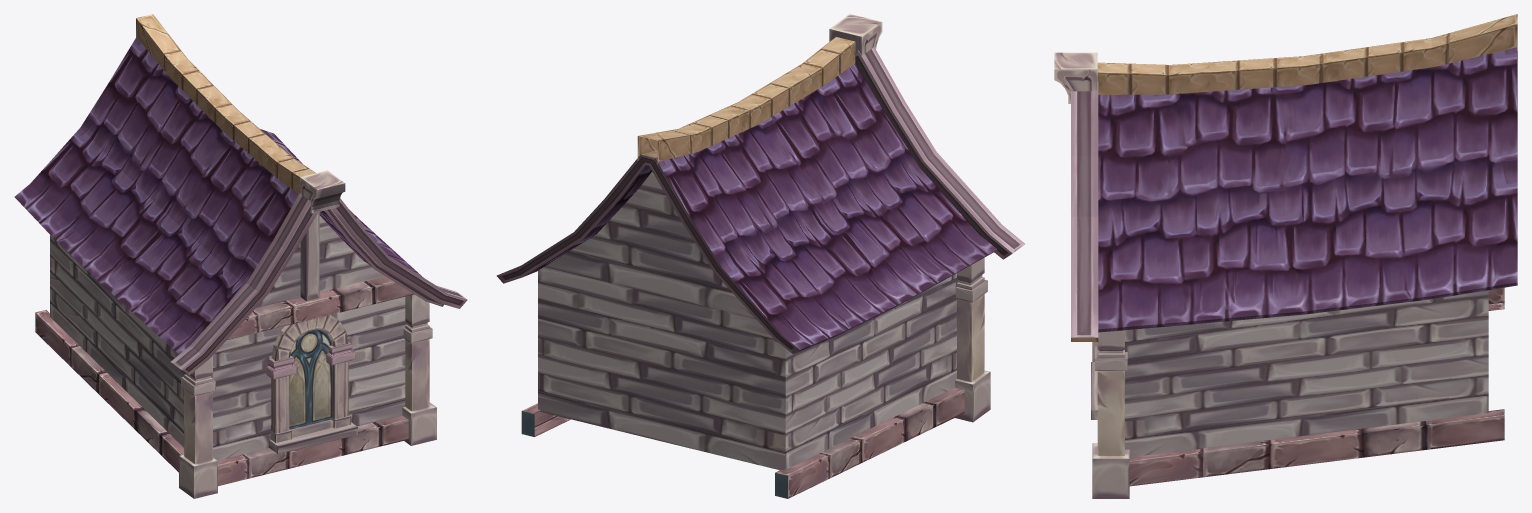
Rendered from fangzi03.fbx.
3 views of the same model, side by side, from view 1: azimuth 30°, elevation 25°; view 2: azimuth 150°, elevation 25°; view 3: azimuth 270°, elevation 25° (orthographic). The views are drawn at different scales.
Parts seen in each view (by area): view 1: 对象002; view 2: 对象002; view 3: 对象002.
Part boxes in pixels (x1=…): 对象002: x1=14, y1=14, x2=467, y2=498; 对象002: x1=496, y1=14, x2=1025, y2=498; 对象002: x1=1054, y1=14, x2=1517, y2=498.
Size of the model in its own units: 27.42 by 29.99 by 30.97.
Materials: 1 (1 with a texture image).
